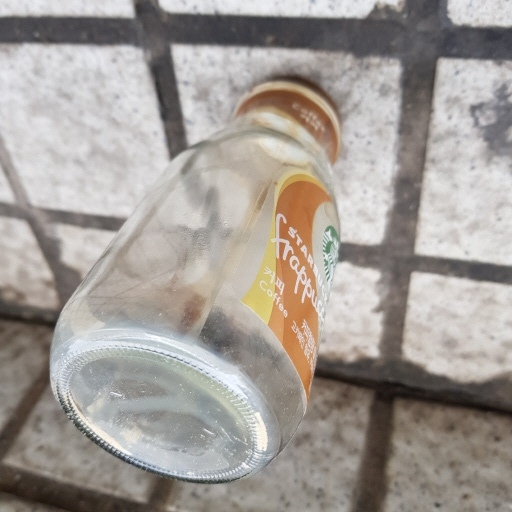Glass_4: (49, 71, 351, 480)
